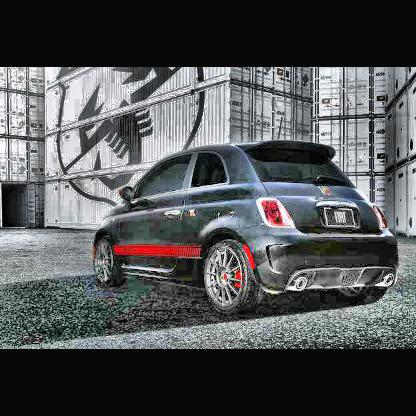FIAT 500 Abarth 2012: (92, 118, 400, 314)
